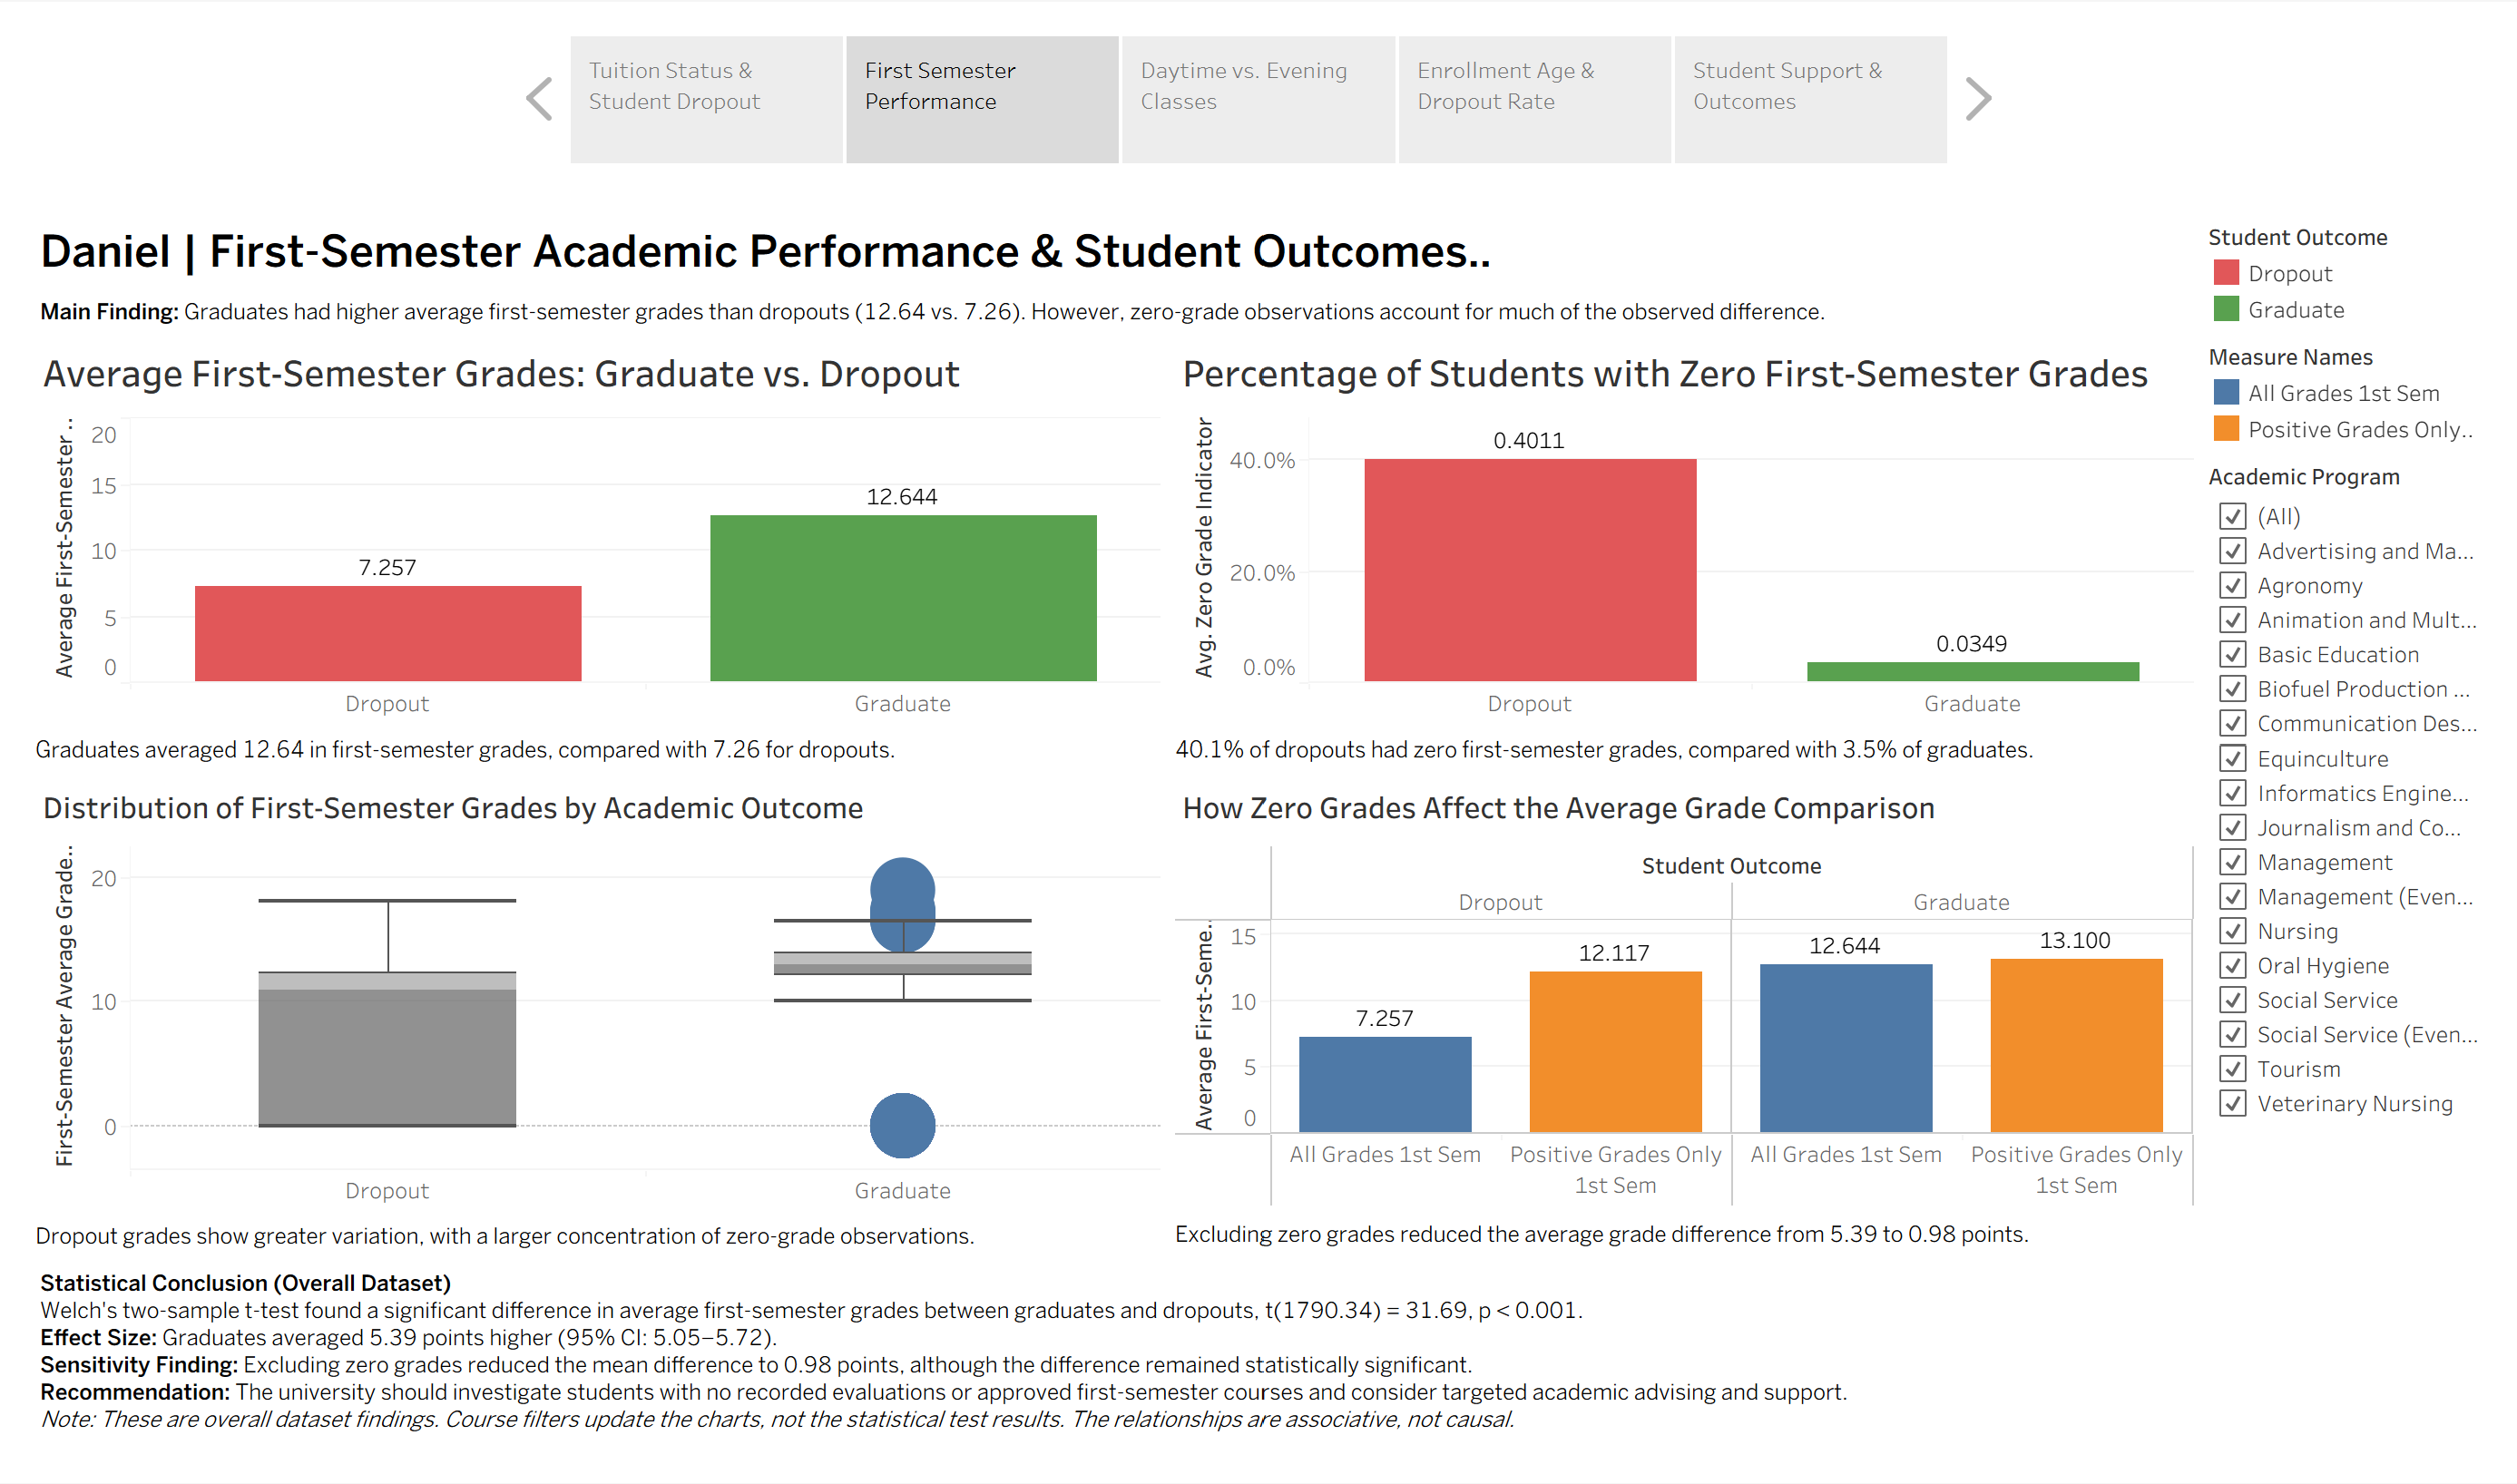

The dashboard page shown, as its layout file describes it:
{"tool":"tableau","page":{"name":"Daniel - Final Dashboard","canvas":[1000,1000],"units":"permille","ordinal":1},"visuals":[{"type":"text","box":[8.1,12.6,822,60.4]},{"type":"legend","title":"1- Average Semester Grade","param":"[federated.1fe1l301v96ljr10m89ho0ad35fd].[none:Target:nk]","box":[830.1,12.6,161.8,103.8]},{"type":"text","box":[8.1,73,822,32.7]},{"type":"worksheet","title":"1- Average Semester Grade","mark":"Bar","rows":["Curricular units 1st sem (grade)"],"cols":["Target"],"box":[8.1,105.7,431.1,345.8]},{"type":"worksheet","title":"2 - Zero Grade Prevelance","mark":"Automatic","rows":["Calculation_3438780564971522"],"cols":["Target"],"box":[439.2,105.7,391,345.8]},{"type":"legend","title":"4 - Senisitivity Comparison","param":"[federated.1fe1l301v96ljr10m89ho0ad35fd].[:Measure Names]","box":[830.1,116.4,161.8,103.8]},{"type":"filter","title":"1- Average Semester Grade","param":"[federated.1fe1l301v96ljr10m89ho0ad35fd].[none:Calculation_4121579747602432:nk]","box":[830.1,220.1,161.8,597.5]},{"type":"worksheet","title":"3- Grade Distribution","mark":"Circle","rows":["Curricular units 1st sem (grade)"],"cols":["Target"],"box":[8.1,451.4,431.1,382.4]},{"type":"worksheet","title":"4 - Senisitivity Comparison","mark":"Bar","cols":["Target"],"box":[439.2,451.4,391,382.4]},{"type":"text","box":[8.1,833.9,822,153.6]}]}

Visuals, with their boxes on the dashboard's canvas, which has no fixed pixel size, in thousandths of its width and height (x1, y1, x2, y2). These are canvas units, not pixel positions in the 2517x1484 screenshot, which may show the page scaled, cropped or inside an application window:
text: 8 13 830 73
"1- Average Semester Grade" legend: 830 13 992 116
text: 8 73 830 106
"1- Average Semester Grade" worksheet (Bar marks): 8 106 439 452
"2 - Zero Grade Prevelance" worksheet: 439 106 830 452
"4 - Senisitivity Comparison" legend: 830 116 992 220
"1- Average Semester Grade" filter: 830 220 992 818
"3- Grade Distribution" worksheet (Circle marks): 8 451 439 834
"4 - Senisitivity Comparison" worksheet (Bar marks): 439 451 830 834
text: 8 834 830 988
